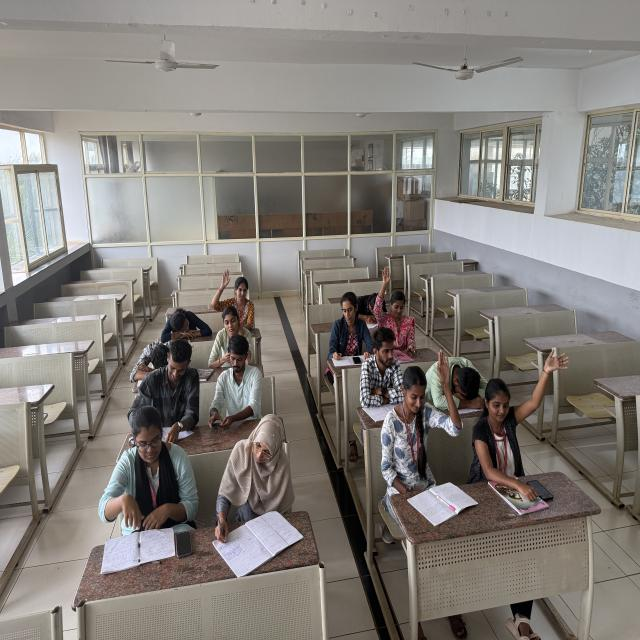Hand Rising: (476, 297, 575, 466), (388, 340, 460, 463), (204, 255, 268, 321), (372, 258, 422, 331)
Reading: (147, 340, 210, 444), (132, 403, 174, 538)
Sleeping: (442, 321, 491, 420), (110, 325, 178, 385), (158, 284, 216, 347), (353, 290, 385, 323)
Using Phone: (204, 334, 258, 440), (211, 308, 265, 368)
Writing: (208, 428, 298, 568), (319, 289, 356, 367)
